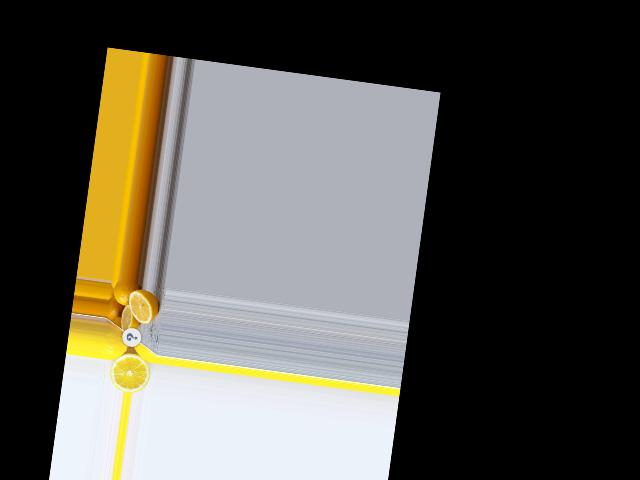lemon: (100, 321, 132, 364)
